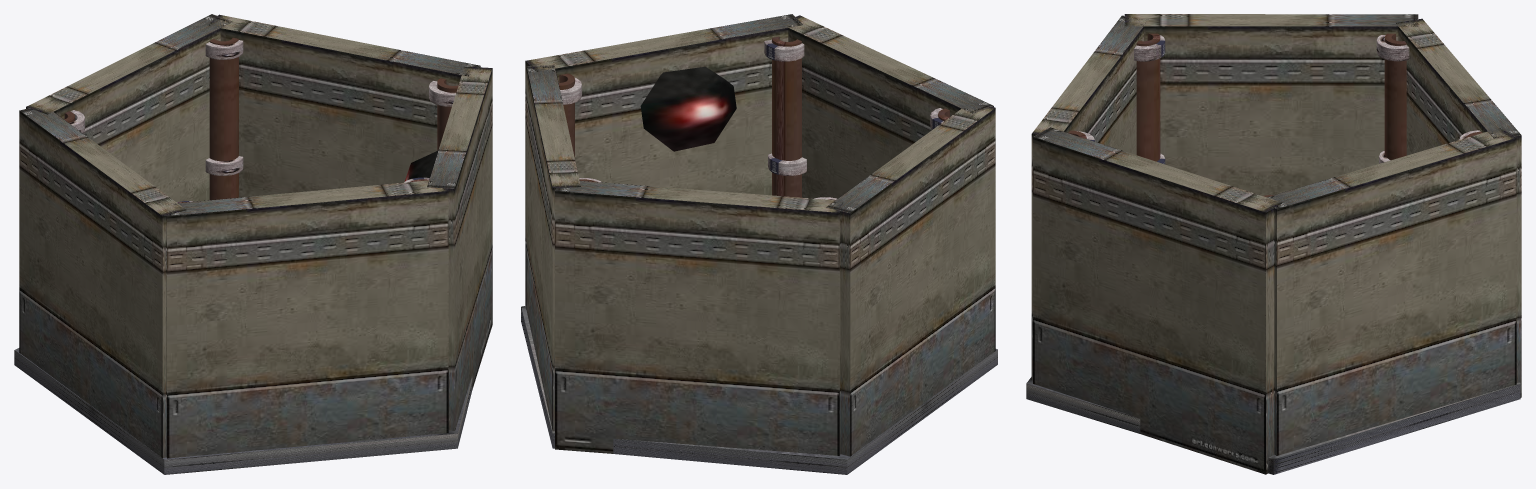
Rendered from kapselinnenraum.dae.
3 views of the same model, side by side, from view 1: azimuth 30°, elevation 25°; view 2: azimuth 150°, elevation 25°; view 3: azimuth 270°, elevation 25° (orthographic).
Parts seen in each view (by area): view 1: Box008, Box004, Box002, Box003, Box001, Gengon001, Tube001, Tube016, Tube008, Tube003, ChamferBox001; view 2: Box003, Box004, Box001, Box008, Box002, Gengon001, ChamferBox001, Tube006, Tube015, Tube002, Tube003; view 3: Box001, Box002, Box004, Box003, Box008, Gengon001, Tube005, Tube004, Tube011, Tube013.
Part boxes in pixels (box(x1,y1,x2,y2)): Box008: box(165, 180, 448, 458); Box004: box(19, 108, 186, 458); Box002: box(208, 14, 480, 197); Box003: box(26, 14, 232, 202); Box001: box(427, 66, 492, 430); Gengon001: box(14, 348, 472, 474); Tube001: box(209, 37, 238, 200); Tube016: box(205, 156, 243, 175); Tube008: box(205, 40, 243, 59); Tube003: box(437, 78, 458, 150); ChamferBox001: box(404, 151, 437, 181); Box003: box(555, 180, 842, 455); Box004: box(826, 103, 995, 456); Box001: box(525, 14, 802, 305); Box008: box(784, 15, 993, 198); Box002: box(526, 65, 580, 431); Gengon001: box(521, 306, 997, 474); ChamferBox001: box(640, 66, 736, 151); Tube006: box(772, 36, 801, 197); Tube015: box(764, 39, 804, 61); Tube002: box(768, 153, 806, 175); Tube003: box(558, 73, 574, 158); Box001: box(1033, 127, 1282, 474); Box002: box(1261, 128, 1516, 455); Box004: box(1124, 14, 1418, 195); Box003: box(1396, 18, 1521, 397); Box008: box(1031, 15, 1146, 380); Gengon001: box(1026, 377, 1520, 474); Tube005: box(1136, 33, 1160, 161); Tube004: box(1384, 33, 1406, 160); Tube011: box(1376, 35, 1409, 61); Tube013: box(1134, 35, 1165, 61).
Size of the model in its own units: 126 by 77.35 by 132.
